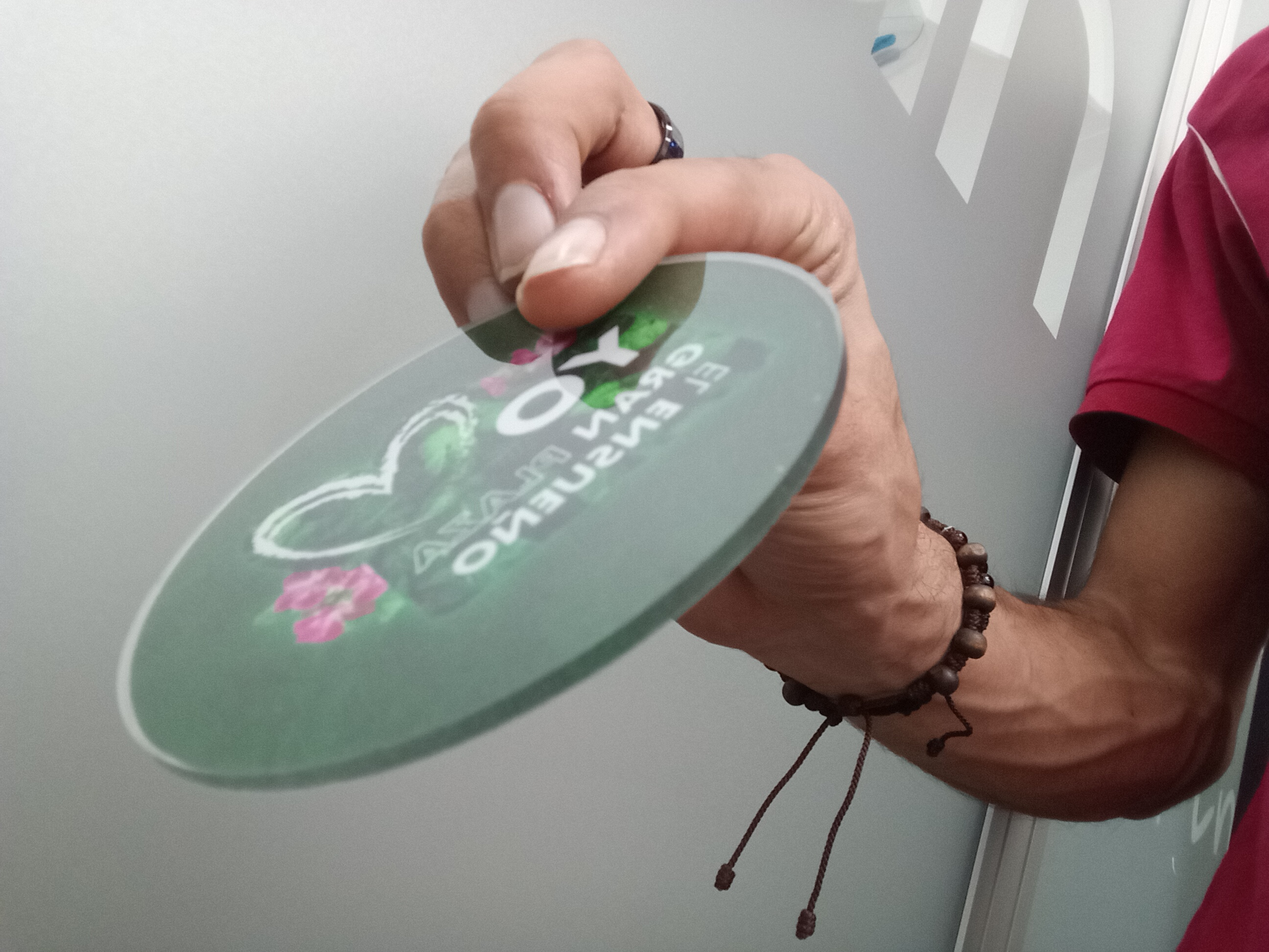Ordinario: (115, 250, 847, 790)
